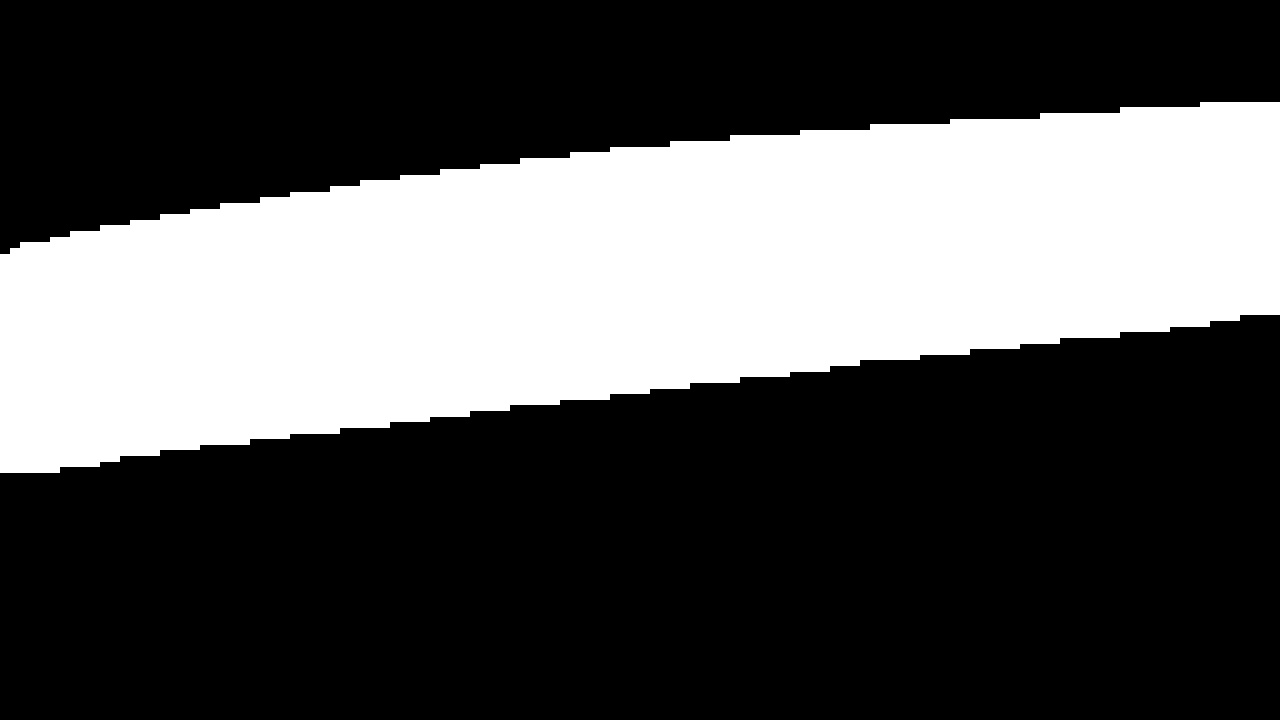Turbine: (5, 82, 1274, 484)
